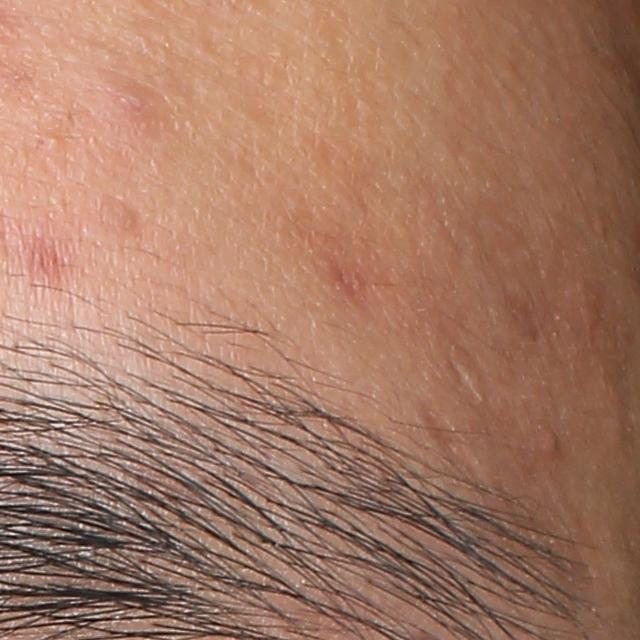comedo: (46, 133, 65, 151)
